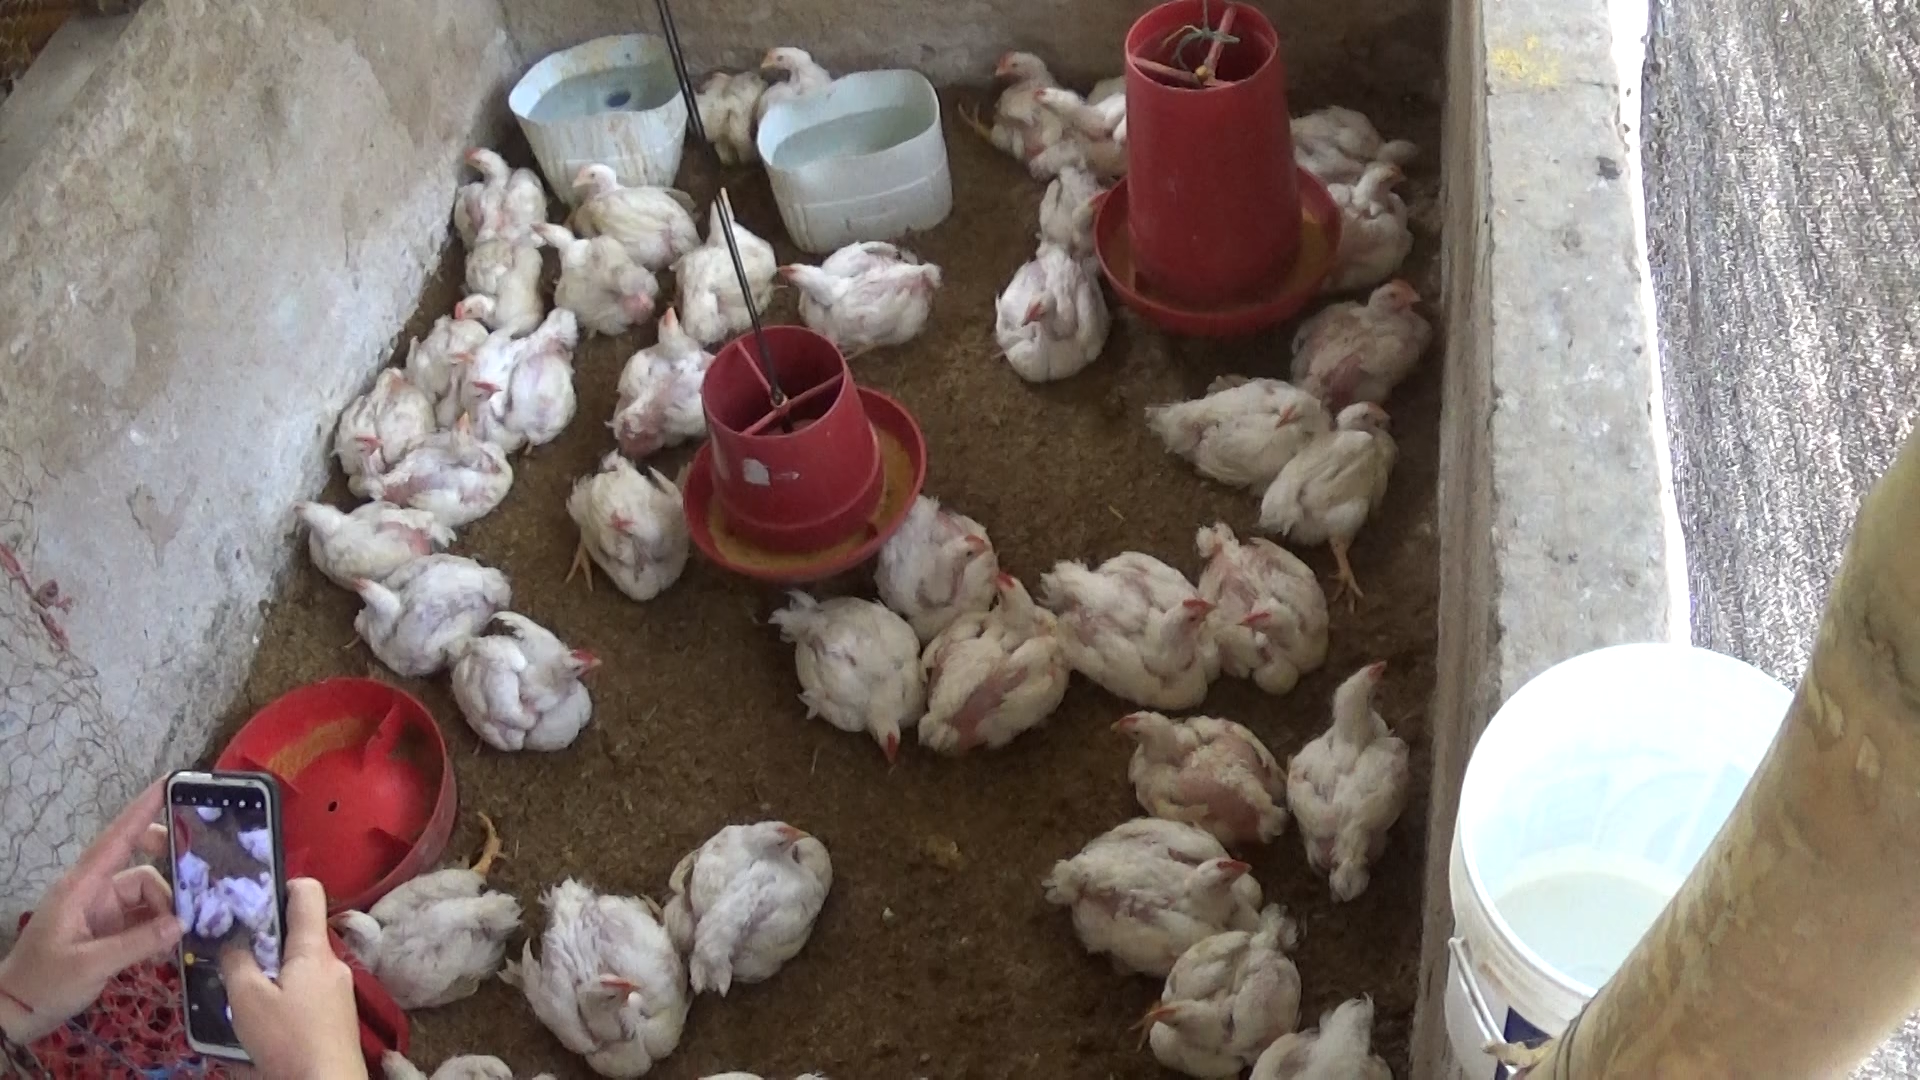Pollos: (1025, 794, 1259, 975), (502, 866, 698, 1073), (1121, 880, 1309, 1073), (1246, 396, 1414, 608), (324, 855, 526, 1021), (1276, 659, 1427, 880), (895, 567, 1067, 756), (1168, 512, 1332, 708), (750, 582, 913, 769), (1046, 533, 1222, 703), (1146, 371, 1335, 513), (436, 607, 611, 757), (665, 822, 822, 986), (1114, 692, 1286, 839), (861, 477, 1010, 642), (766, 232, 951, 361), (562, 438, 707, 601), (349, 549, 512, 694), (976, 216, 1102, 396), (1280, 277, 1452, 404), (516, 206, 666, 332), (281, 492, 451, 588), (1296, 157, 1440, 268), (462, 311, 578, 448), (435, 204, 553, 338), (382, 427, 531, 527), (694, 49, 833, 156), (615, 307, 720, 448), (390, 281, 502, 409), (665, 203, 767, 342), (562, 153, 688, 258), (1291, 94, 1440, 182), (322, 359, 425, 477), (992, 42, 1096, 157), (1042, 69, 1155, 162), (1015, 152, 1114, 258), (454, 135, 551, 243)
